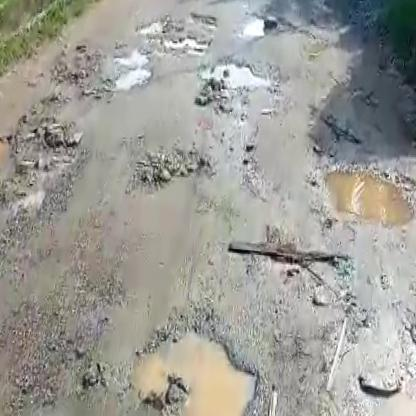pothole: (114, 307, 265, 416), (0, 120, 89, 210), (314, 154, 416, 229), (191, 57, 276, 108), (102, 47, 156, 96), (146, 25, 220, 55)
